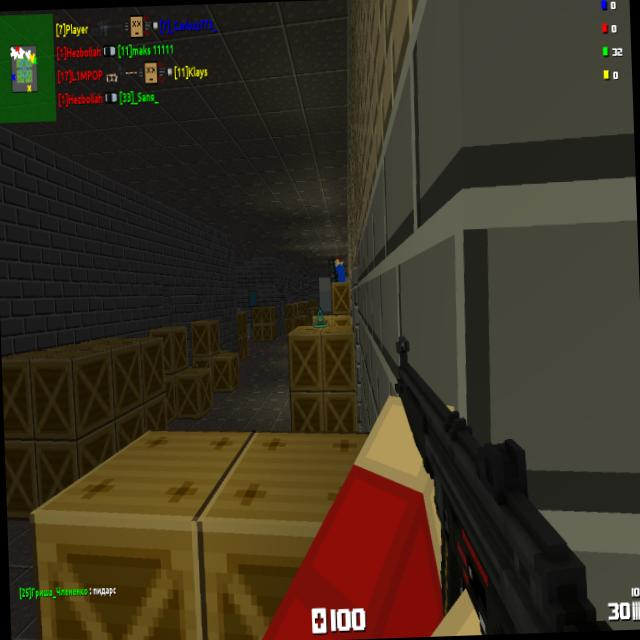enemy: (333, 253, 346, 282)
